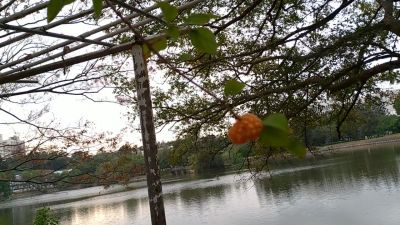eggs: (227, 112, 264, 145)
